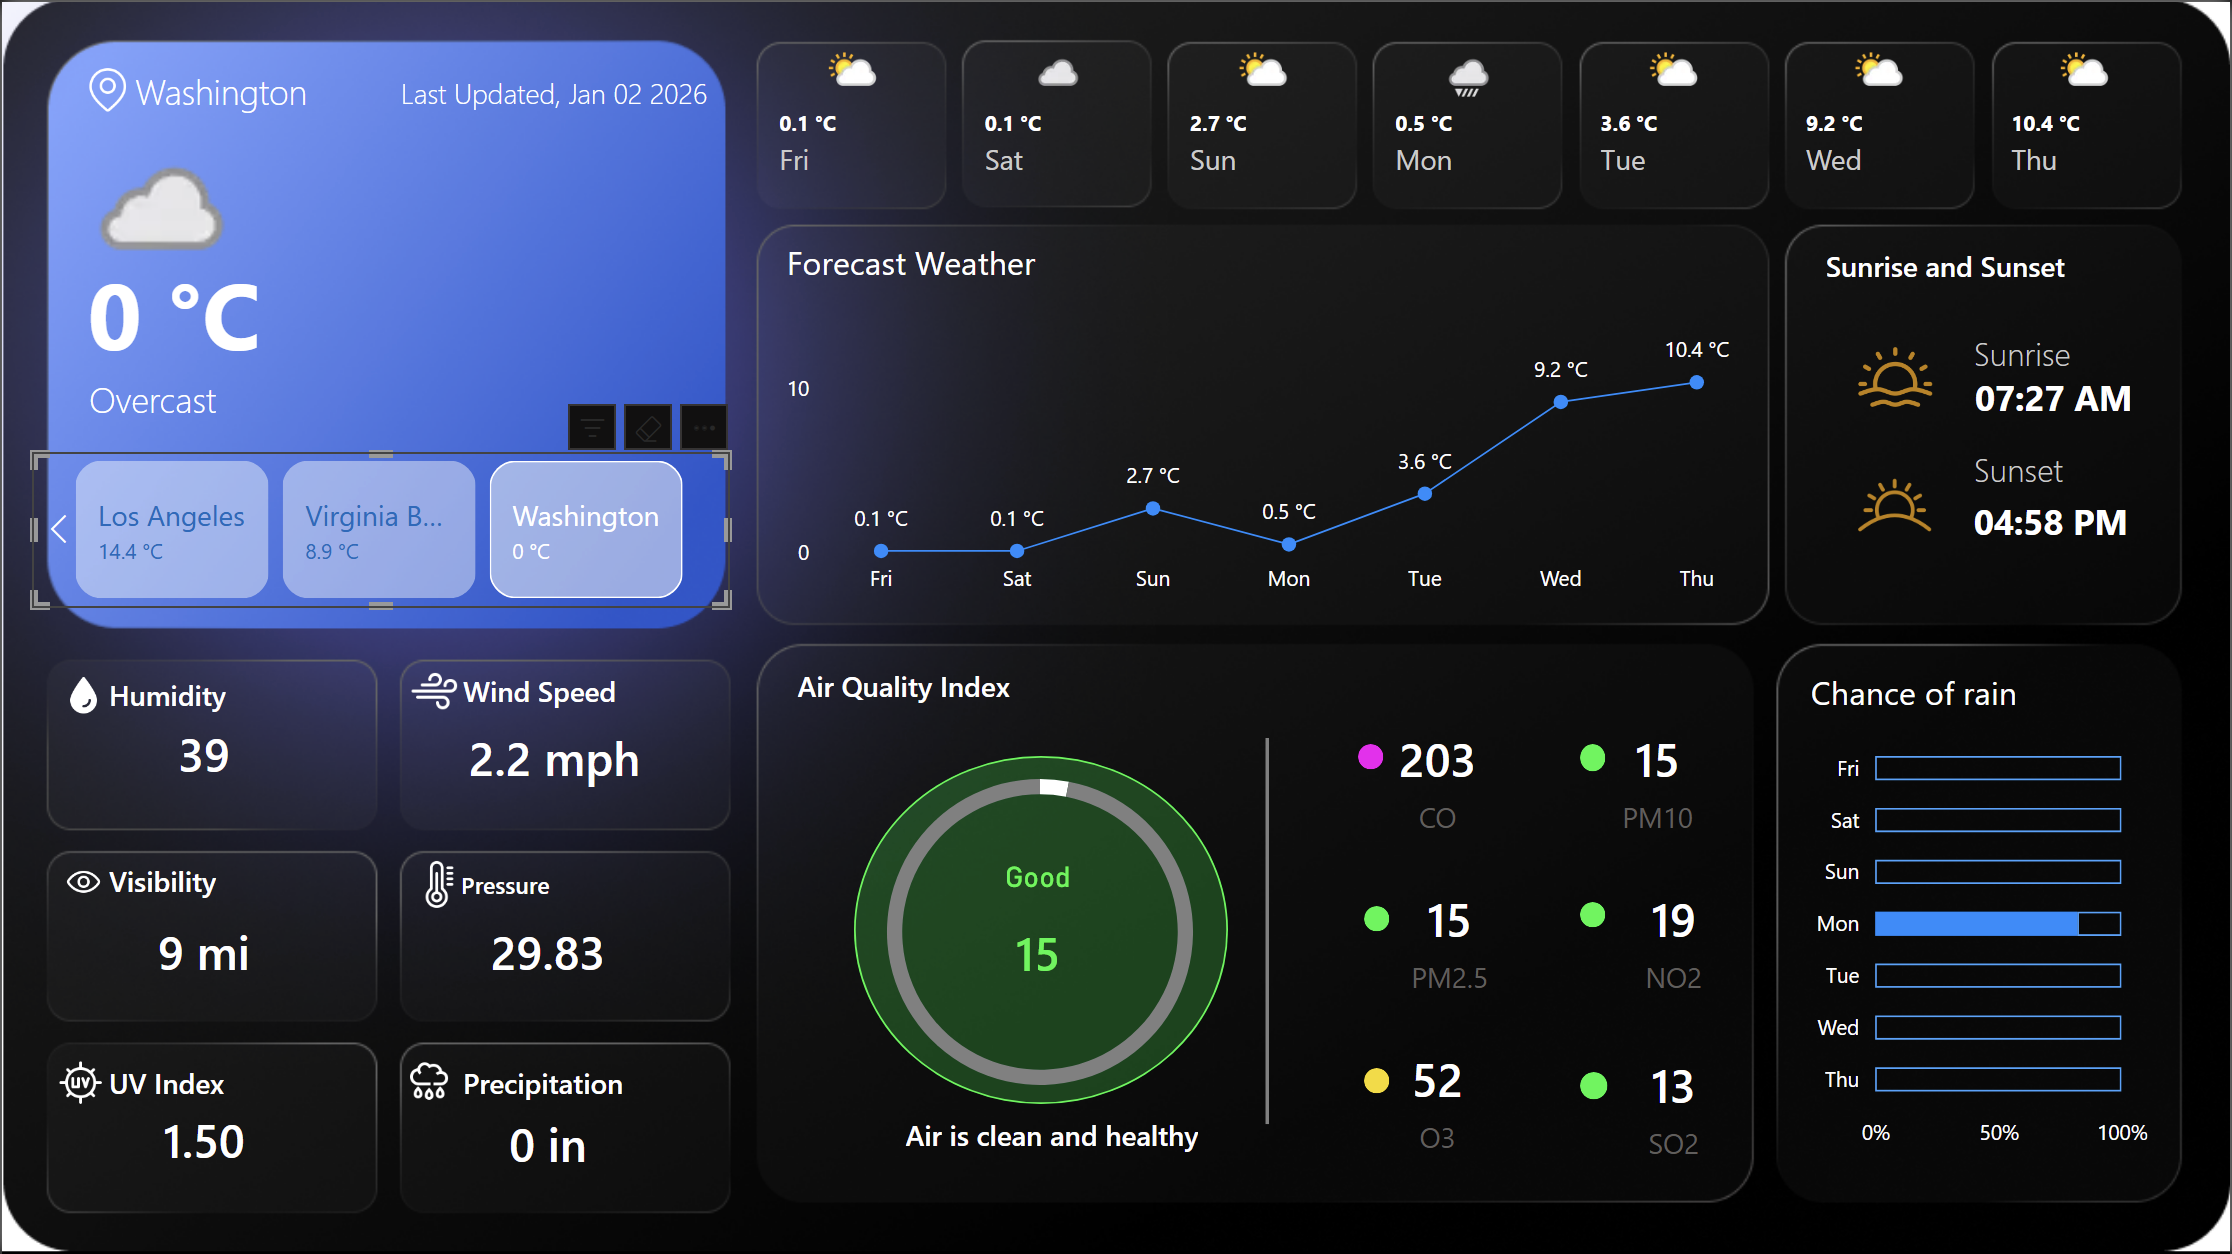

Layout of this report page (visuals, bound fields, positions):
{"tool":"powerbi","page":{"name":"Page 1","canvas":[1280,720],"ordinal":0},"visuals":[{"type":"shape","box":[489.7,433.3,214.9,200],"z":0},{"type":"donutChart","fields":{"Y":["Sum(Current_Data.current.air_quality.pm10)","_Measures.Left_value_PM10"]},"box":[423,419.5,347.1,229.9],"z":1000},{"type":"advancedSlicerVisual","fields":{"Values":["Locations.location.name"],"Label":["_Measures.Curr_Temp_C"]},"box":[16.9,258.4,401.1,89.9],"z":2000},{"type":"shape","box":[43.8,137.1,202.2,78.7],"z":3000},{"type":"shape","box":[47.6,208.2,177.2,39.3],"z":4000},{"type":"shape","box":[73.8,30.9,128.5,39.3],"z":5000},{"type":"shape","box":[202.2,32.1,205.8,39.3],"z":6000},{"type":"image","box":[48.8,34.5,25,32.1],"z":7000},{"type":"cardVisual","fields":{"Data":["Min(Current_Data.current.condition.icon)"]},"box":[16.9,11.2,149.4,215.7],"z":8000},{"type":"image","box":[35.7,487.7,22.6,36.9],"z":9000},{"type":"shape","box":[58.3,485.4,67.8,39.3],"z":10000},{"type":"image","box":[35.7,381.9,22.6,33.3],"z":11000},{"type":"shape","box":[58.3,600.7,79.7,39.3],"z":12000},{"type":"shape","box":[261.7,600.7,109.4,39.3],"z":13000},{"type":"shape","box":[261.2,487.5,68.8,40],"z":14000},{"type":"shape","box":[261.7,375.9,95.2,39.3],"z":15000},{"type":"shape","box":[58.3,378.3,79.7,39.3],"z":16000},{"type":"image","box":[32.1,596,26.2,48.8],"z":17000},{"type":"image","box":[234,377,28,38],"z":18000},{"type":"image","box":[238,490,27,35],"z":19000},{"type":"image","box":[226.6,606.3,38,26.6],"z":20000},{"type":"card","fields":{"Values":["Sum(Current_Data.current.humidity)"]},"box":[58.8,383.8,115,98.8],"z":21000},{"type":"card","fields":{"Values":["Sum(Current_Data.current.pressure_in)"]},"box":[256.2,497.5,115,98.8],"z":22000},{"type":"card","fields":{"Values":["_Measures.visibility"]},"box":[58.8,497.5,115,98.8],"z":23000},{"type":"card","fields":{"Values":["_Measures.Wind_Speed"]},"box":[251.2,386.6,131.7,98.8],"z":24000},{"type":"card","fields":{"Values":["Sum(Current_Data.current.uv)"]},"box":[58.8,606.2,115,98.8],"z":25000},{"type":"card","fields":{"Values":["_Measures.Precip"]},"box":[256.2,607.5,115,98.8],"z":26000},{"type":"advancedSlicerVisual","fields":{"Values":["Forecast_Day.Day_name"]},"box":[428.6,18.6,832.9,100],"z":27000},{"type":"lineChart","title":"Forecast Weather","fields":{"Category":["Forecast_Day.Day_name"],"Y":["Sum(Forecast_Day.forecast.forecastday.day.avgtemp_c)"]},"box":[445.7,137.1,564.3,212.9],"z":28000},{"type":"shape","box":[1045.7,137.1,148.6,28.6],"z":29000},{"type":"shape","box":[1131.4,207.1,105.7,40],"z":30000},{"type":"shape","box":[1131.4,282.9,105.7,30],"z":31000},{"type":"shape","box":[1131.4,187.1,148.6,28.6],"z":32000},{"type":"shape","box":[1131.4,254.3,148.6,28.6],"z":33000},{"type":"image","box":[1059.8,258.5,56.1,61],"z":34000},{"type":"image","box":[1056.1,193.9,63.4,42.7],"z":35000},{"type":"hundredPercentStackedBarChart","title":"Chance of rain","fields":{"Y":["Sum(Forecast_Day.forecast.forecastday.day.daily_chance_of_rain)","_Measures.Left_Value_rain"],"Category":["Forecast_Day.Day_name"]},"box":[1034.1,384.1,203.7,284.1],"z":36000},{"type":"shape","box":[454.9,378,148.8,28],"z":37000},{"type":"card","fields":{"Values":["Sum(Current_Data.current.air_quality.pm10)"]},"box":[906.1,412.2,91.5,68.3],"z":38000},{"type":"card","fields":{"Values":["Sum(Current_Data.current.air_quality.so2)"]},"box":[914.6,600,91.5,68.3],"z":39000},{"type":"card","fields":{"Values":["Sum(Current_Data.current.air_quality.o3)"]},"box":[779.3,596.3,91.5,68.3],"z":40000},{"type":"card","fields":{"Values":["Sum(Current_Data.current.air_quality.no2)"]},"box":[914.6,504.9,91.5,68.3],"z":41000},{"type":"card","fields":{"Values":["Sum(Current_Data.current.air_quality.pm2_5)"]},"box":[786.6,504.9,91.5,68.3],"z":42000},{"type":"card","fields":{"Values":["Sum(Current_Data.current.air_quality.co)"]},"box":[779.3,412.2,91.5,68.3],"z":43000},{"type":"shape","box":[779.3,426.8,14.6,14.6],"z":44000},{"type":"shape","box":[907.3,614.6,15.9,15.9],"z":45000},{"type":"shape","box":[782.9,612.2,14.6,14.6],"z":46000},{"type":"shape","box":[782.9,519.5,14.6,14.6],"z":47000},{"type":"shape","box":[907.3,517.1,14.6,14.6],"z":48000},{"type":"shape","box":[907.3,426.8,14.6,15.9],"z":49000},{"type":"shape","box":[704.9,423.2,45.1,222],"z":50000},{"type":"shape","box":[475.9,620.7,255.2,59.8],"z":51000},{"type":"card","fields":{"Values":["Sum(Current_Data.current.air_quality.pm10)"]},"box":[550.6,493.1,89.7,89.7],"z":52000}]}

Visuals, with their boxes in screenshot pixels (x1, y1, x2, y2), scaled from the page's 1280x720 canvas onto the 2232x1254 screenshot:
shape: 854,755,1229,1103
donutChart - Sum(Current_Data.current.air_quality.pm10) x _Measures.Left_value_PM10: 738,731,1343,1131
advancedSlicerVisual - Locations.location.name x _Measures.Curr_Temp_C: 29,450,729,607
shape: 76,239,429,376
shape: 83,363,392,431
shape: 129,54,353,122
shape: 353,56,711,124
image: 85,60,129,116
cardVisual - Min(Current_Data.current.condition.icon): 29,20,290,395
image: 62,849,102,914
shape: 102,845,220,914
image: 62,665,102,723
shape: 102,1046,241,1115
shape: 456,1046,647,1115
shape: 455,849,575,919
shape: 456,655,622,723
shape: 102,659,241,727
image: 56,1038,102,1123
image: 408,657,457,723
image: 415,853,462,914
image: 395,1056,461,1102
card - Sum(Current_Data.current.humidity): 103,668,303,841
card - Sum(Current_Data.current.pressure_in): 447,866,647,1039
card - _Measures.visibility: 103,866,303,1039
card - _Measures.Wind_Speed: 438,673,668,845
card - Sum(Current_Data.current.uv): 103,1056,303,1228
card - _Measures.Precip: 447,1058,647,1230
advancedSlicerVisual - Forecast_Day.Day_name: 747,32,2200,207
"Forecast Weather" lineChart: 777,239,1761,610
shape: 1823,239,2083,289
shape: 1973,361,2157,430
shape: 1973,493,2157,545
shape: 1973,326,2231,376
shape: 1973,443,2231,493
image: 1848,450,1946,556
image: 1842,338,1952,412
"Chance of rain" hundredPercentStackedBarChart: 1803,669,2158,1164
shape: 793,658,1053,707
card - Sum(Current_Data.current.air_quality.pm10): 1580,718,1740,837
card - Sum(Current_Data.current.air_quality.so2): 1595,1045,1754,1164
card - Sum(Current_Data.current.air_quality.o3): 1359,1039,1518,1158
card - Sum(Current_Data.current.air_quality.no2): 1595,879,1754,998
card - Sum(Current_Data.current.air_quality.pm2_5): 1372,879,1531,998
card - Sum(Current_Data.current.air_quality.co): 1359,718,1518,837
shape: 1359,743,1384,769
shape: 1582,1070,1610,1098
shape: 1365,1066,1391,1092
shape: 1365,905,1391,930
shape: 1582,901,1608,926
shape: 1582,743,1608,771
shape: 1229,737,1308,1124
shape: 830,1081,1275,1185
card - Sum(Current_Data.current.air_quality.pm10): 960,859,1117,1015
